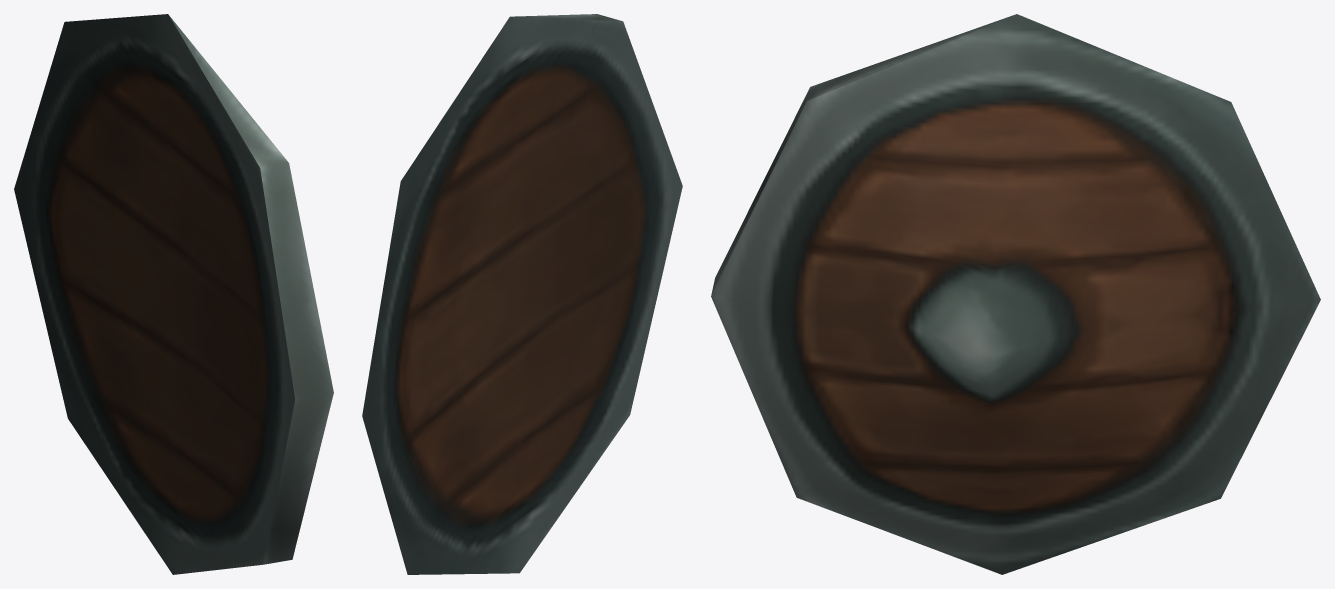
Rendered from DWF_Shield_A.FBX.
The picture shows the model from 3 angles, left to right: view 1: azimuth 30°, elevation 25°; view 2: azimuth 150°, elevation 25°; view 3: azimuth 270°, elevation 25°; orthographic projection.
Parts seen in each view (by area): view 1: DWF_Shield_A; view 2: DWF_Shield_A; view 3: DWF_Shield_A.
Boxes of the visible parts, x1,y1,x2,y2 form: DWF_Shield_A: (14, 14, 333, 574); DWF_Shield_A: (362, 14, 682, 574); DWF_Shield_A: (711, 14, 1320, 574).
Bounding box in the file's own units: 6.5 × 24.11 × 23.71.
Materials: 1 (1 with a texture image).
